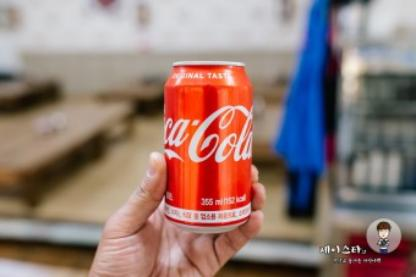Can: (164, 60, 254, 234)
